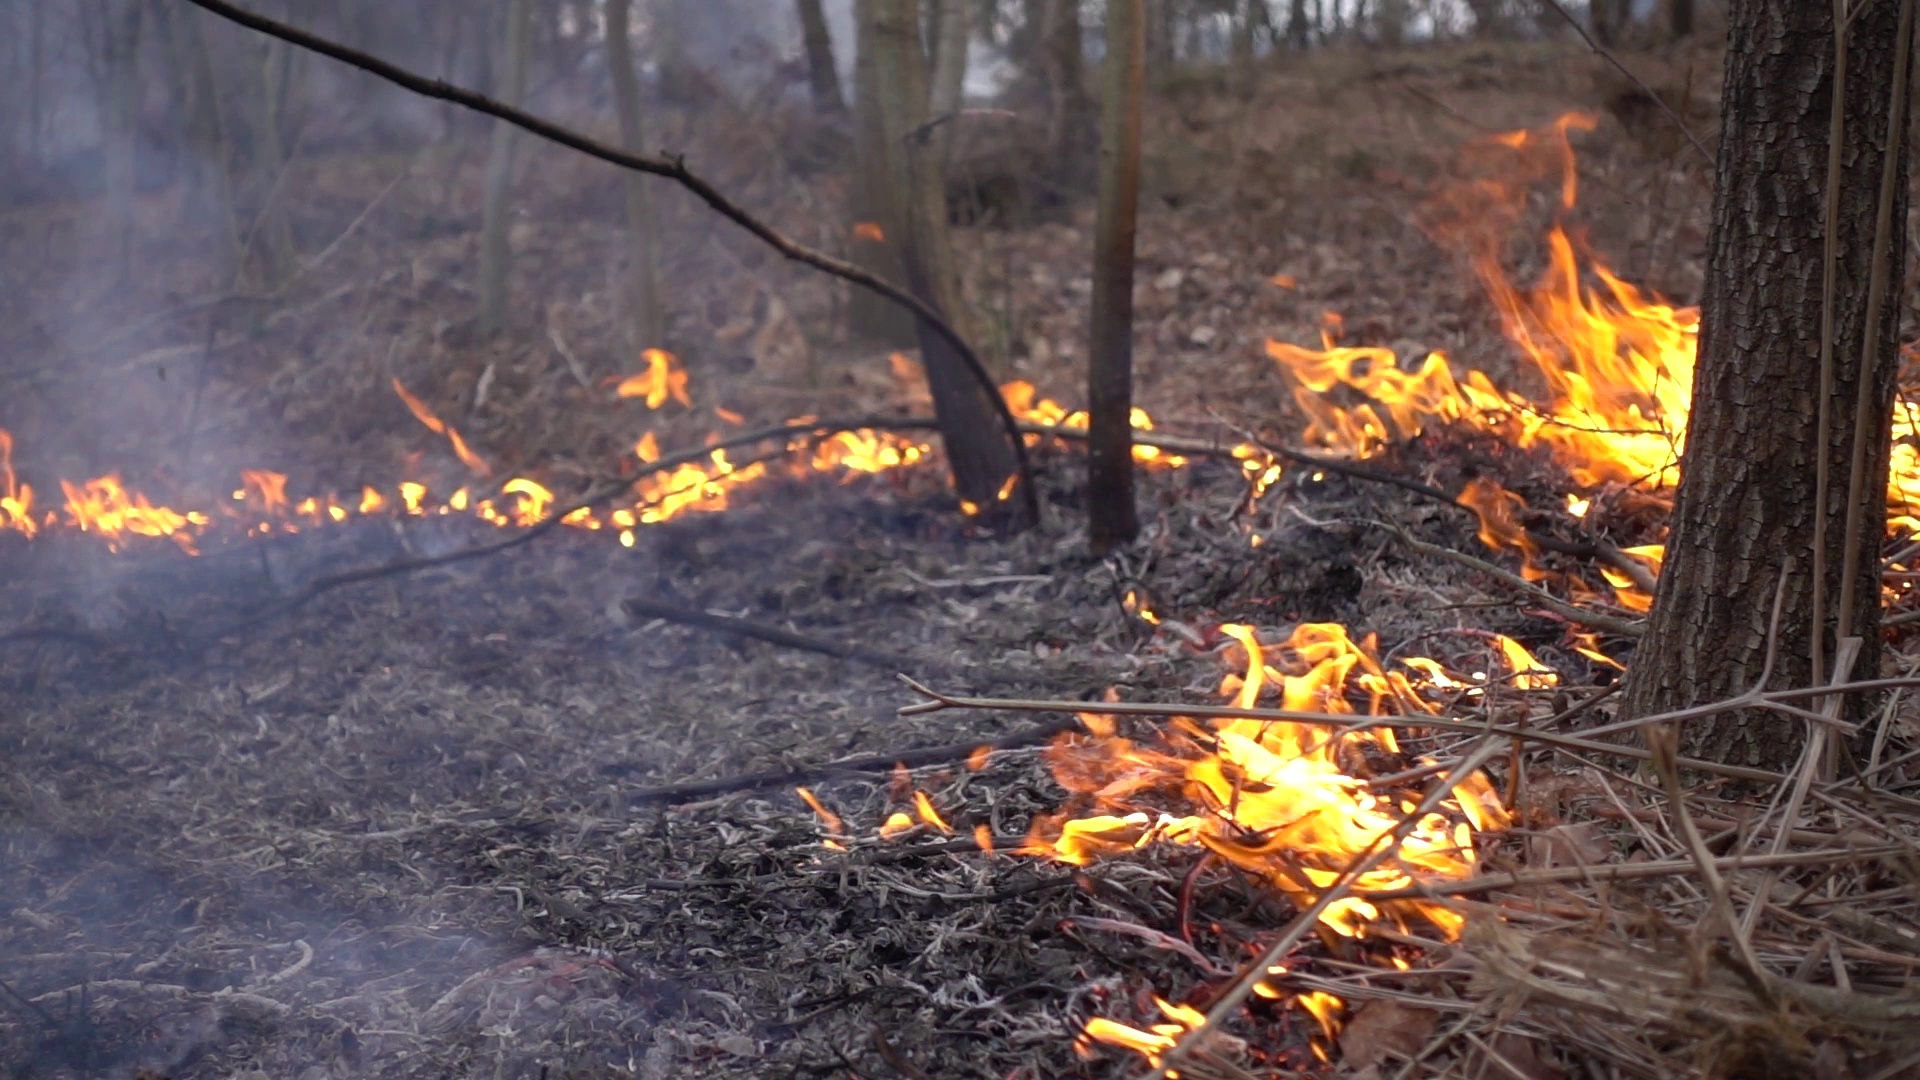fire: (1038, 626, 1507, 931), (1265, 248, 1700, 518), (241, 472, 545, 527), (1, 471, 189, 537), (633, 451, 752, 524), (802, 421, 916, 473), (1886, 396, 1920, 535), (618, 345, 686, 404)
